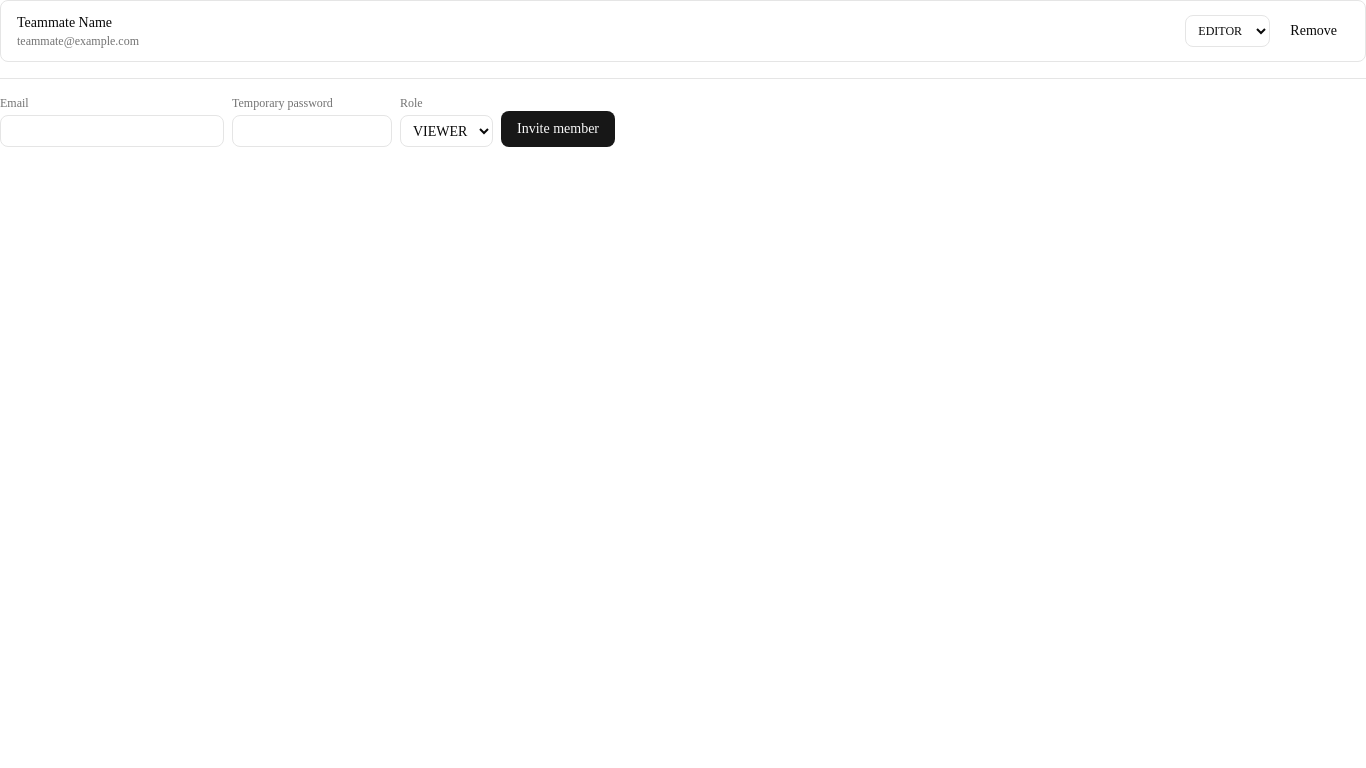
Test case: MemberList remove confirmation › confirming removes the member and drops them from the list
Expected: the text "Teammate Name" is shown, x1=17 y1=15 x2=112 y2=30
Click the button "Remove".
click(1314, 31)  # box x1=1278 y1=15 x2=1349 y2=47
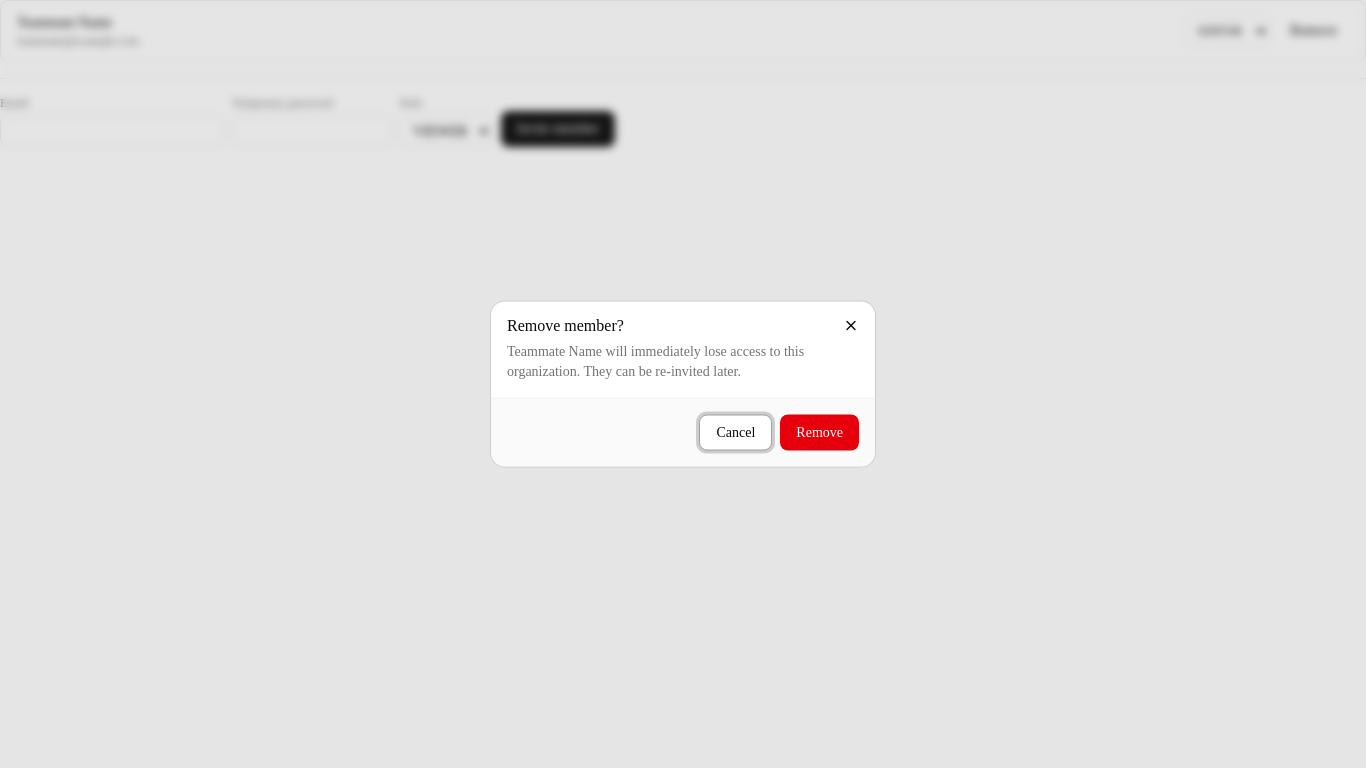
Click the button "Remove".
click(820, 432)  # box x1=780 y1=414 x2=859 y2=450
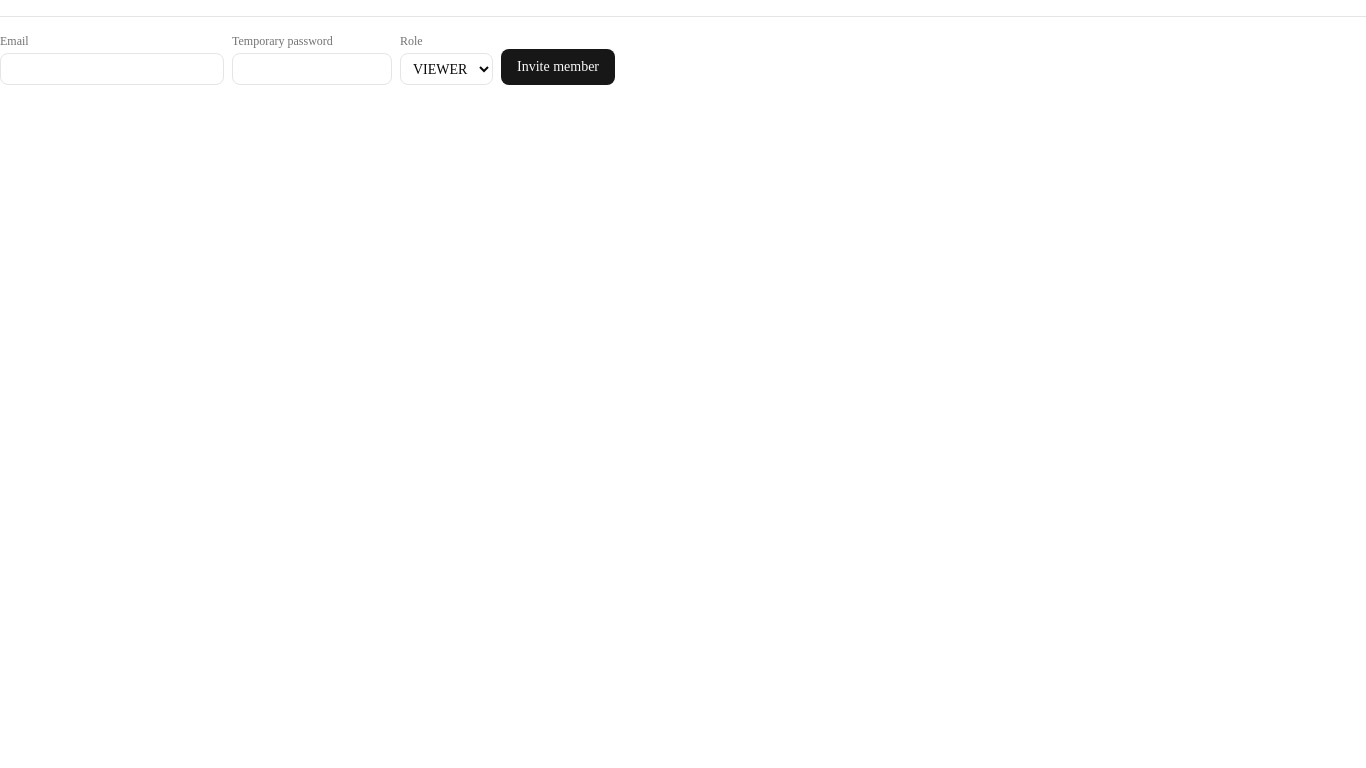
Now the text "Teammate Name" is gone
